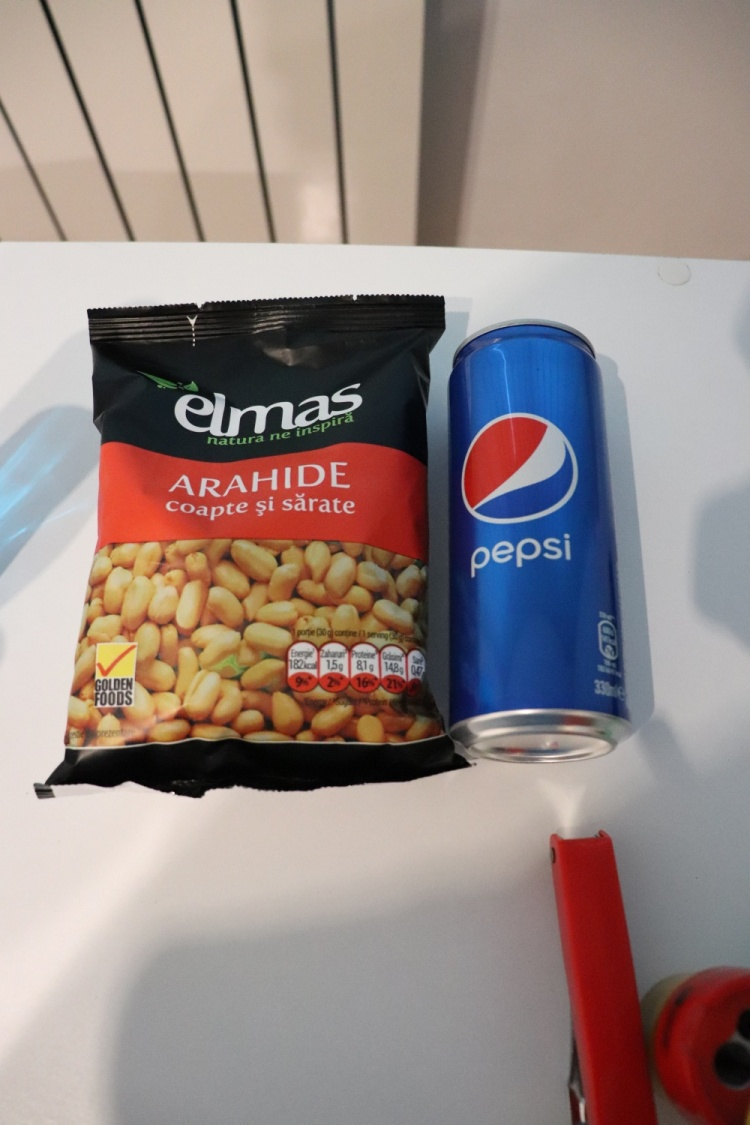peanuts: (52, 288, 448, 798)
pepsi: (451, 316, 633, 772)
